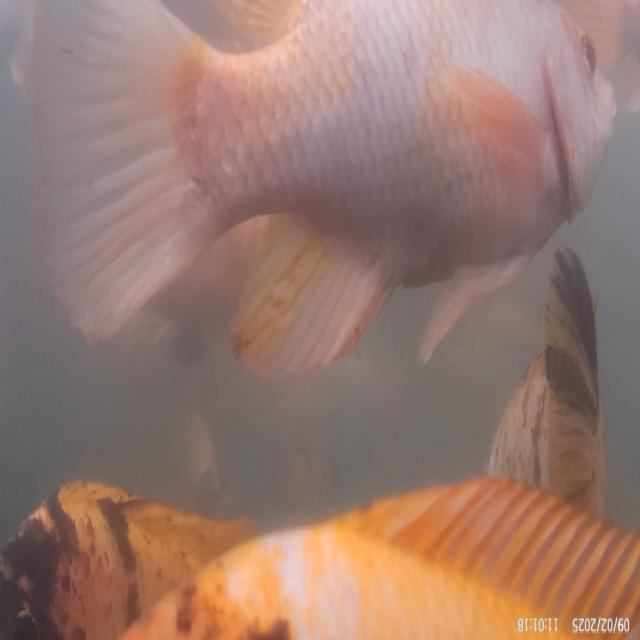ikan: (34, 9, 611, 375)
